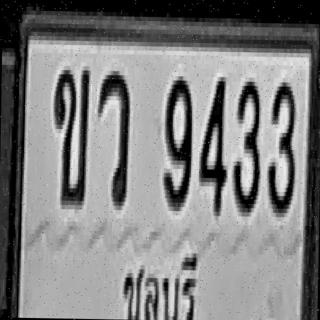A02: (52, 66, 89, 205)
A37: (96, 66, 130, 206)
N03: (266, 78, 296, 213), (232, 77, 261, 212)
N04: (198, 75, 228, 214)
N09: (162, 74, 192, 209)
P13: (114, 240, 201, 320)
